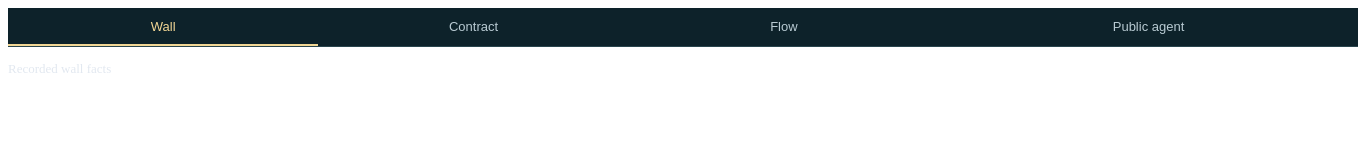
it: one inspector follows Wall, Contract, Flow and Public agent without duplicate visible panels
Expected: the number of panels is 1, 8,61 -> 111,76
Expected: the panel "wall" reads "Recorded wall facts", 8,61 -> 111,76
Click the tab "Public agent" at (1148, 27), box 939,8 -> 1358,46
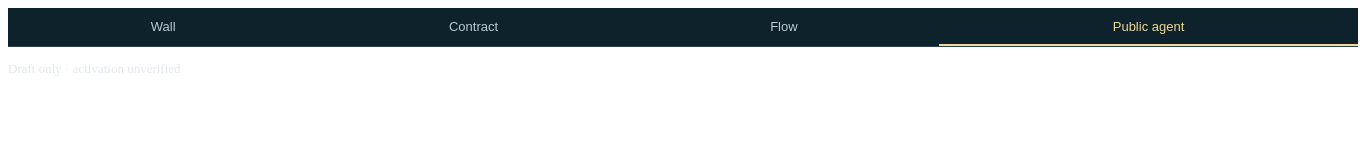
Expected: the number of panels is 1, 8,61 -> 181,76
Expected: the panel named "Public agent" shows "activation unverified", 8,61 -> 181,76
